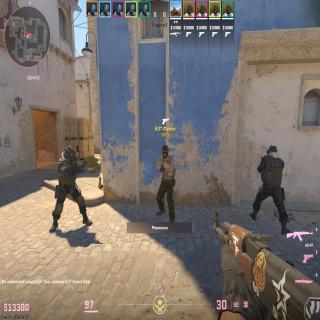CT-Body: (258, 145, 284, 225), (57, 145, 80, 230)
CT-Head: (64, 145, 77, 164), (267, 145, 278, 158)
T-Body: (157, 144, 176, 217)
T-Head: (162, 144, 169, 159)
